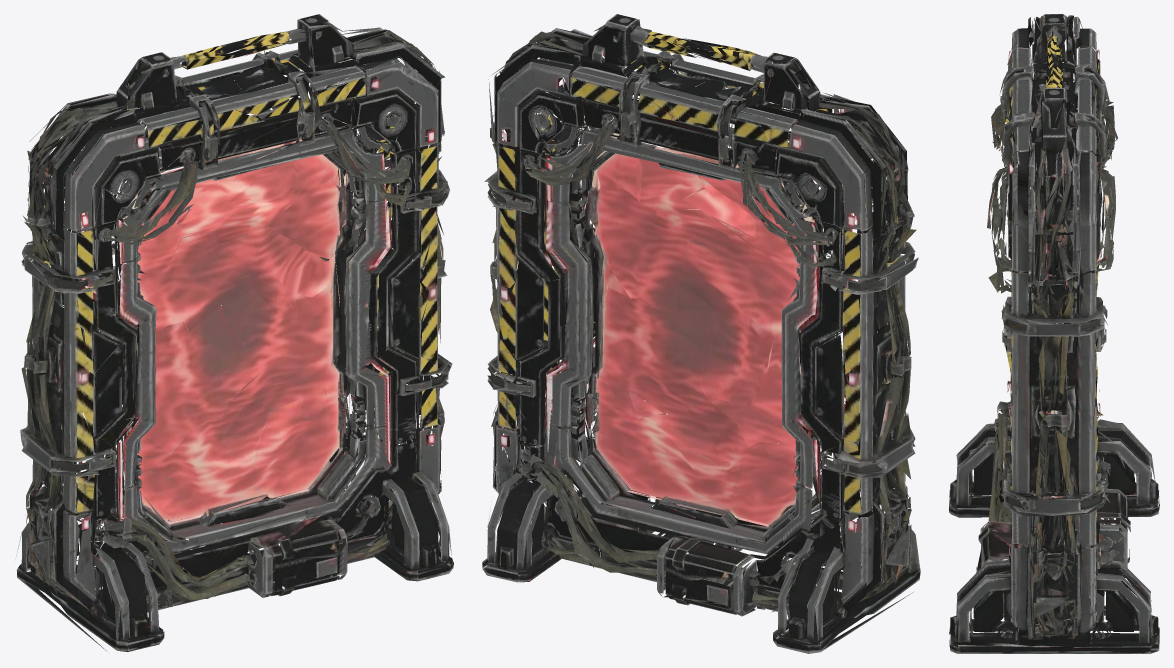
Rendered from env_portal.glb.
The picture shows the model from 3 angles, left to right: view 1: azimuth 30°, elevation 25°; view 2: azimuth 150°, elevation 25°; view 3: azimuth 270°, elevation 25°; orthographic projection. The views are drawn at different scales.
Visible parts, largest first — view 1: body; view 2: body; view 3: body.
Boxes of the visible parts, x1,y1,x2,y2 form: body: [16, 14, 453, 653]; body: [482, 14, 920, 653]; body: [949, 14, 1159, 653].
Size of the model in its own units: 1.09 by 1.37 by 0.4967.
Materials: 1 (1 with a texture image).
